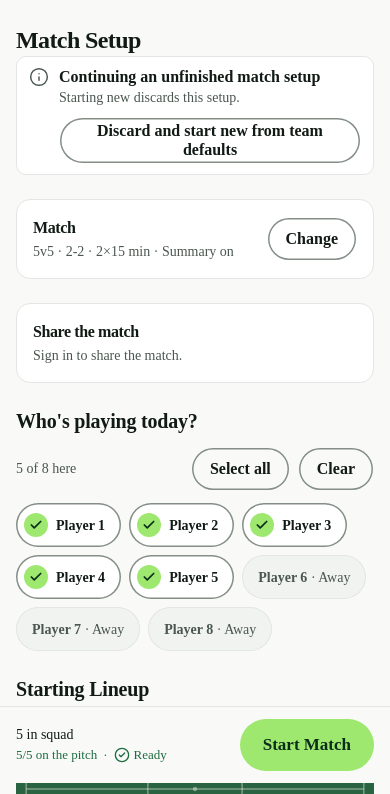
MatchSetupManager attendance and preselection (U9) › starting over from the team defaults preselects the squad again, with an empty pitch
Click the button "Discard and start new from team defaults": [210, 141] box [59,117,361,164]
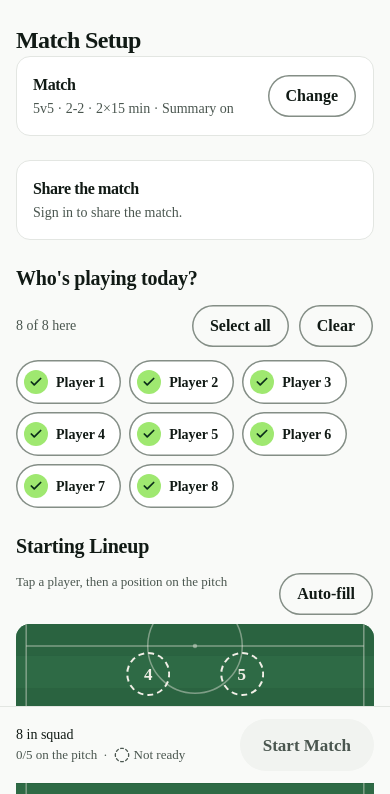
Expected: the text "Continuing an unfinished match setup" is gone
Expected: the button "Start Match" is disabled, [240,719,374,771]
